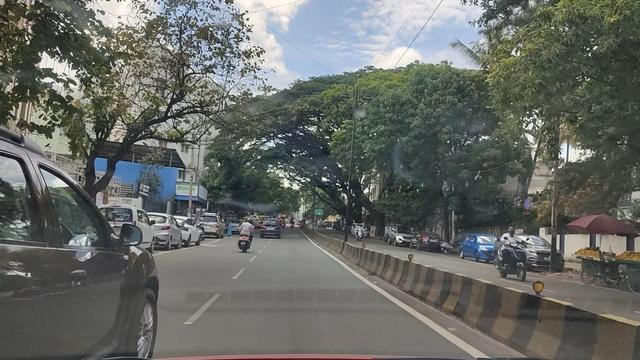LMV: (0, 147, 160, 360), (237, 218, 256, 256)
